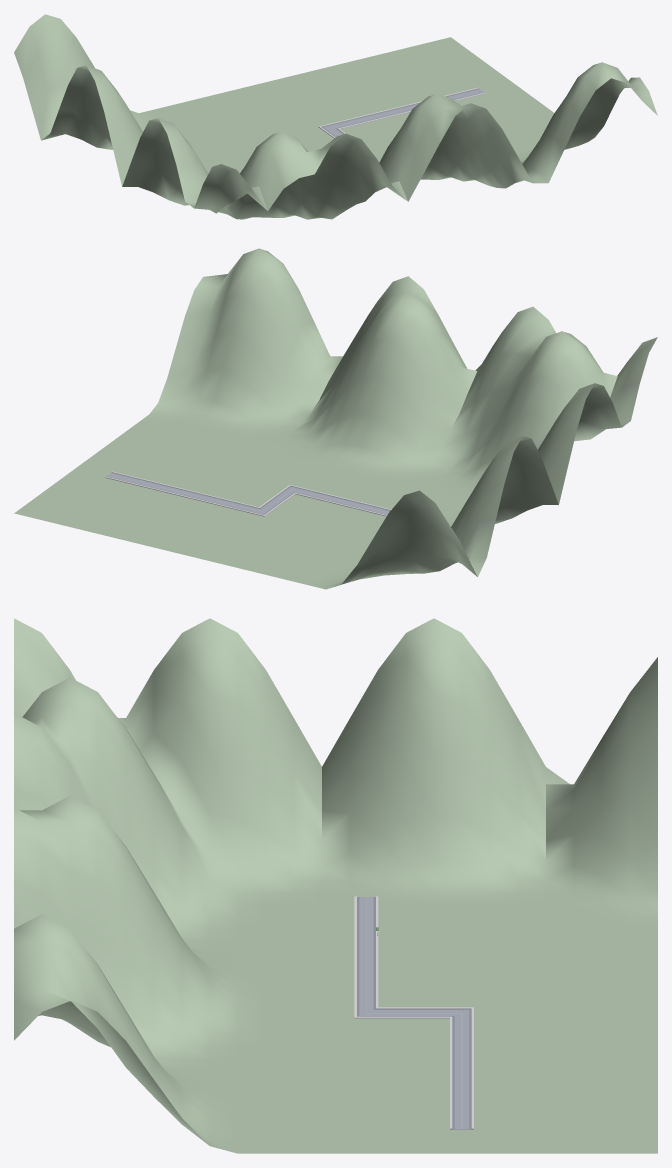
The model's file is Map_Tutorial.fbx.
3 views of the same model, one above another, from view 1: azimuth 30°, elevation 25°; view 2: azimuth 150°, elevation 25°; view 3: azimuth 270°, elevation 25° (orthographic). The views are drawn at different scales.
Parts seen in each view (by area): view 1: Background, Road; view 2: Background, Road; view 3: Background, Road.
Boxes of the visible parts, box(x1,y1,x2,y2) form: Background: box(14, 14, 657, 219); Road: box(318, 87, 485, 138); Background: box(14, 248, 657, 589); Road: box(105, 471, 449, 524); Background: box(14, 618, 657, 1153); Road: box(354, 896, 473, 1129).
Bounding box in the file's own units: 1312 × 377 × 1078.
